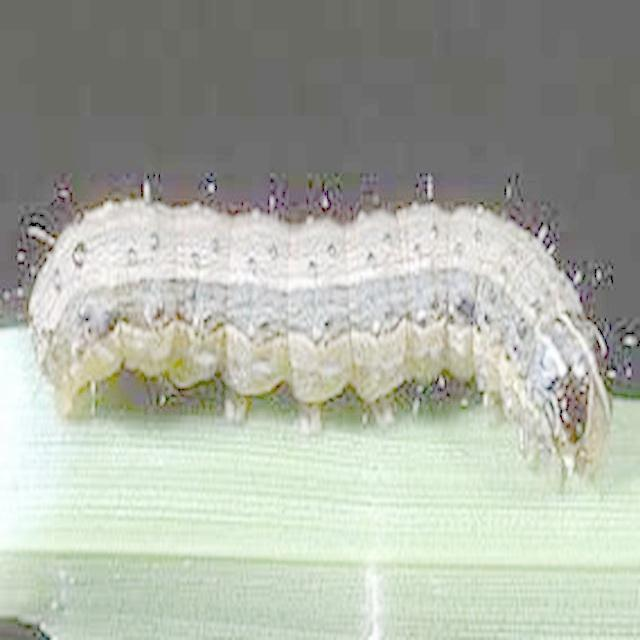gusano_cogollero: (6, 171, 640, 493)
